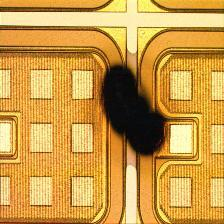PARTICLE: (87, 51, 180, 165)
